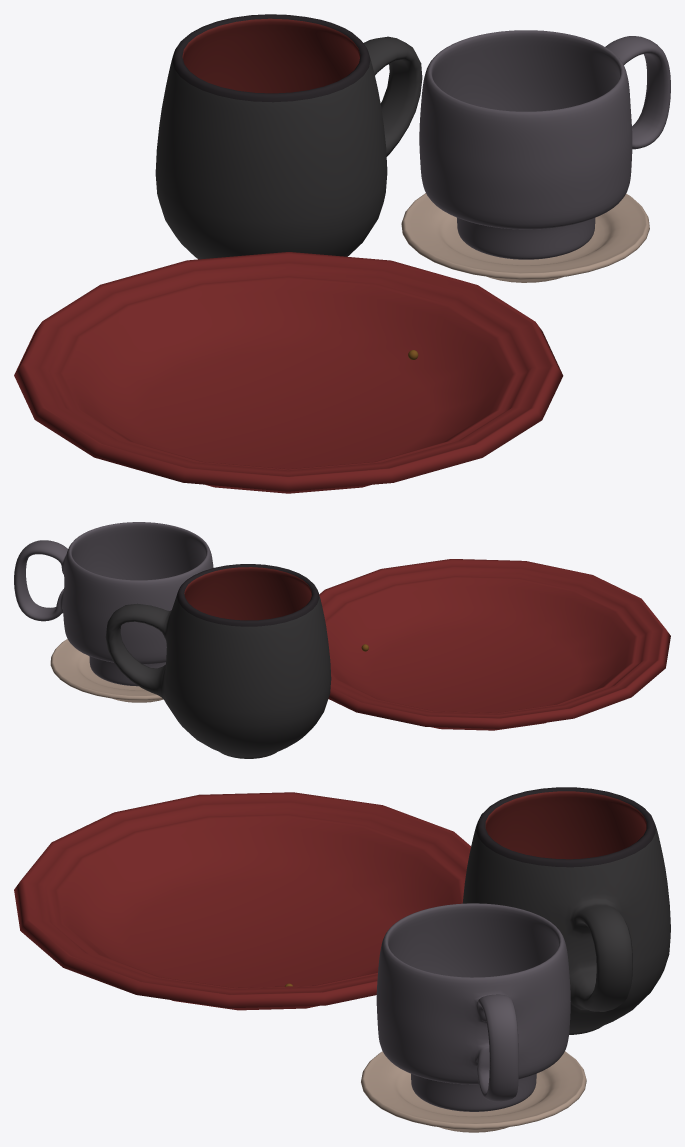
The model's file is Mugs and Plates.glb.
The picture shows the model from 3 angles, top to bottom: view 1: azimuth 30°, elevation 25°; view 2: azimuth 150°, elevation 25°; view 3: azimuth 270°, elevation 25°; orthographic projection. The views are drawn at different scales.
Visible parts, largest first — view 1: Plate, Mug_2, Mug_1, Plate.001; view 2: Plate, Mug_2, Mug_1, Plate.001; view 3: Plate, Mug_1, Mug_2, Plate.001.
Boxes of the visible parts, x1=… form: Plate: x1=14, y1=252, x2=563, y2=493; Mug_2: x1=155, y1=14, x2=422, y2=259; Mug_1: x1=419, y1=30, x2=670, y2=259; Plate.001: x1=401, y1=193, x2=649, y2=282; Plate: x1=319, y1=559, x2=670, y2=730; Mug_2: x1=105, y1=564, x2=331, y2=758; Mug_1: x1=14, y1=522, x2=213, y2=686; Plate.001: x1=50, y1=639, x2=163, y2=702; Plate: x1=14, y1=792, x2=470, y2=1010; Mug_1: x1=376, y1=903, x2=570, y2=1111; Mug_2: x1=462, y1=787, x2=670, y2=1034; Plate.001: x1=361, y1=1051, x2=586, y2=1132.
Bounding box in the file's own units: 1.35 × 0.375 × 1.13.
